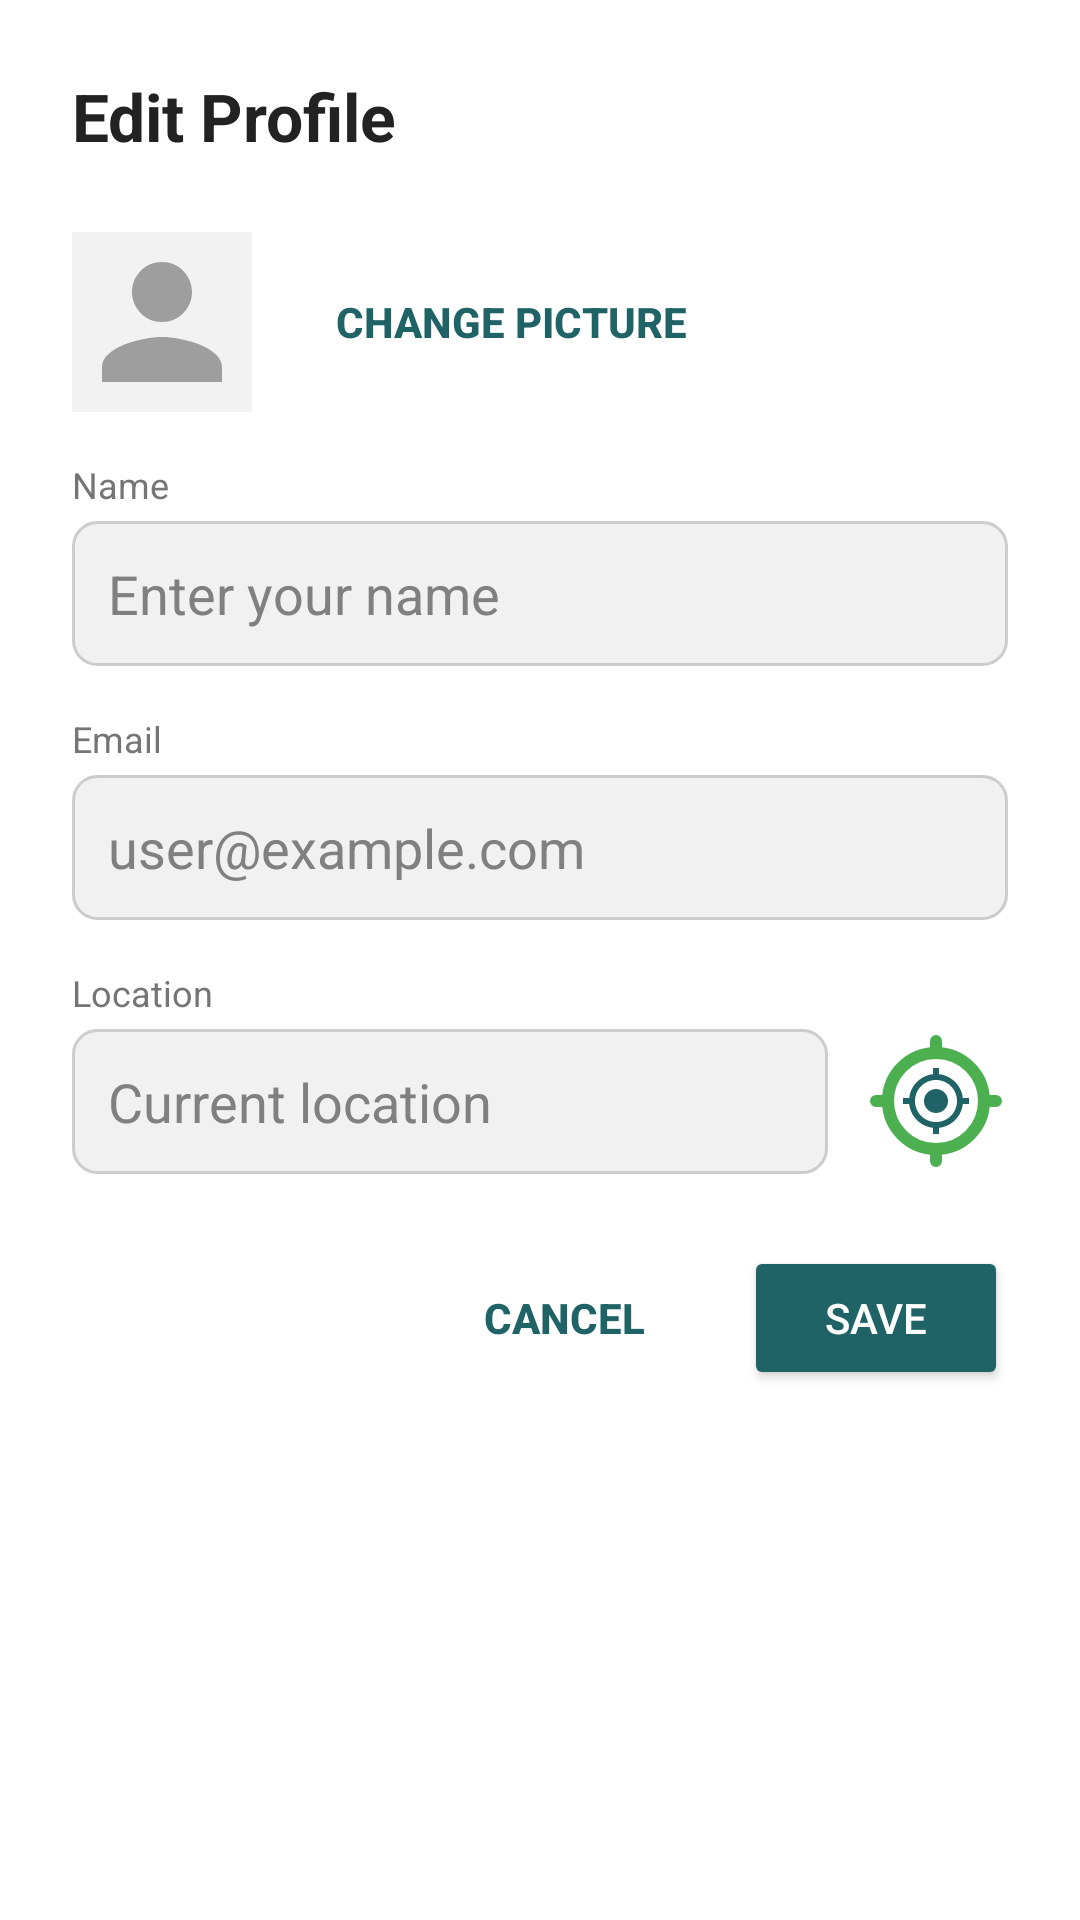

Icons on this 1080*1920 Android screen, each with its box as box(x1, y1, x2, y2):
Use GPS: box(870, 1035, 1002, 1167)
